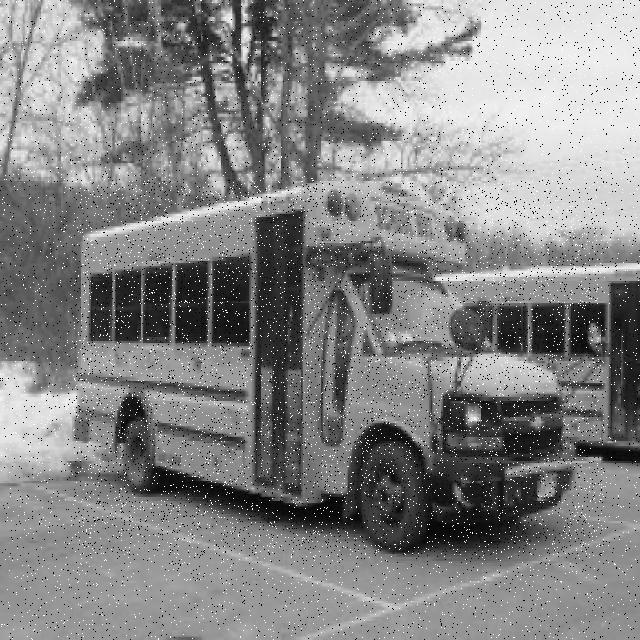Bus- Small: (74, 181, 604, 555)
